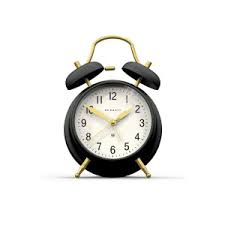alarm_clock: (61, 28, 163, 179), (73, 28, 163, 179)
